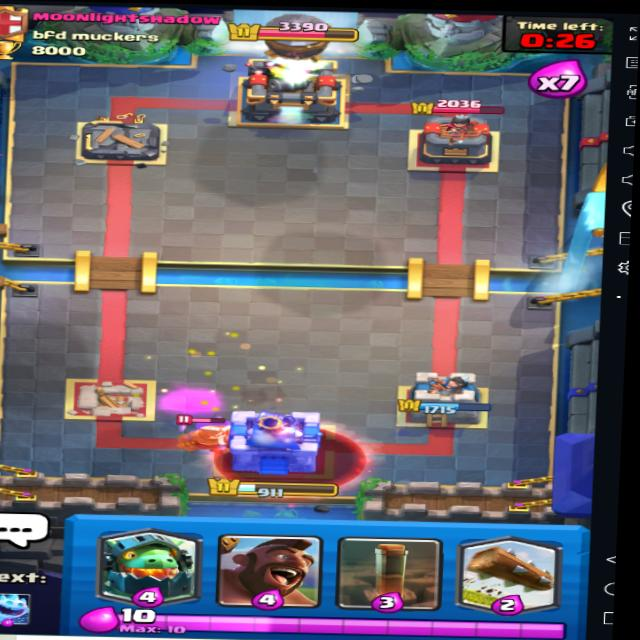monk: (172, 412, 233, 455)
rocket: (260, 12, 329, 66)
void: (202, 416, 363, 492)
